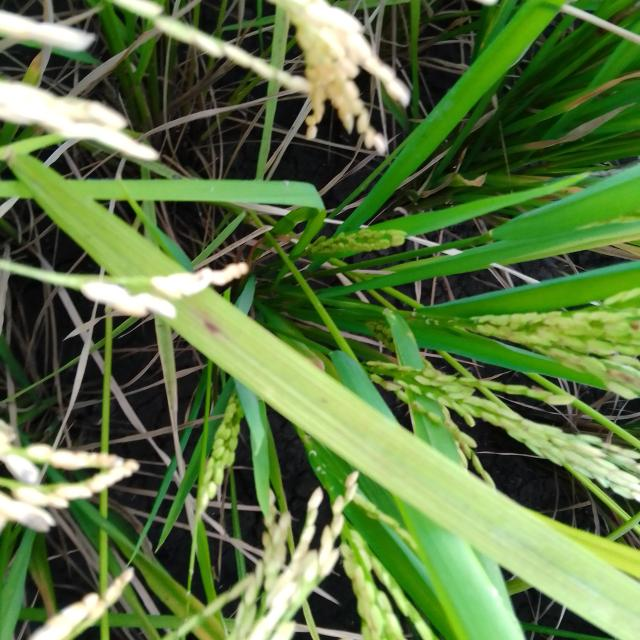Brown spot: (518, 99, 638, 155), (560, 65, 640, 113)
insects: (199, 311, 235, 344)
